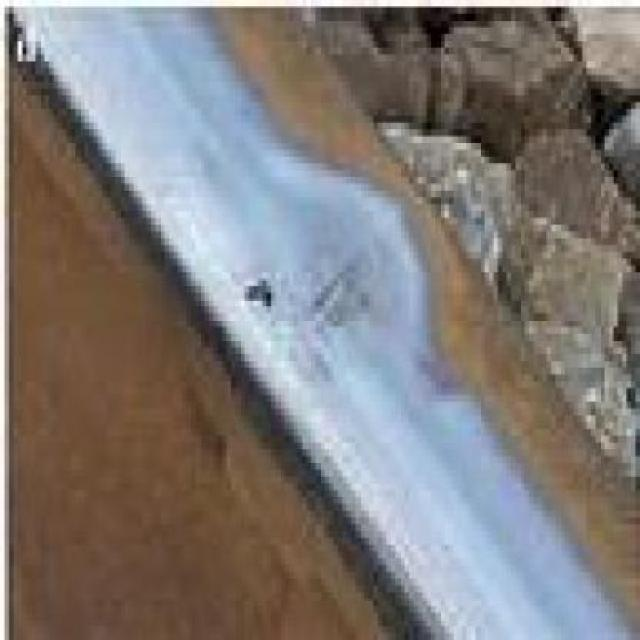defective: (117, 101, 496, 491)
